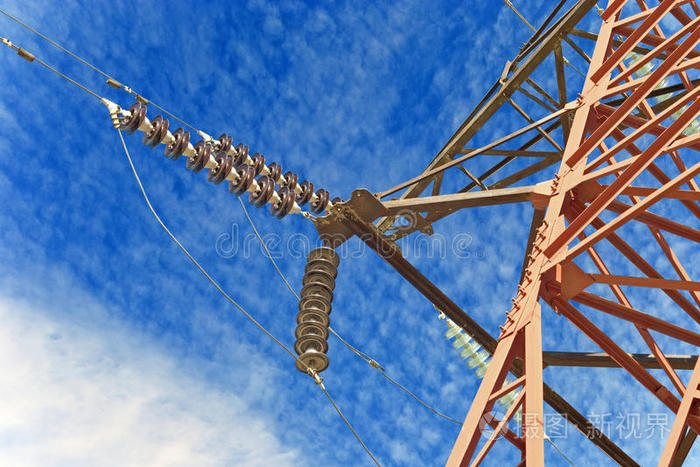insulator: (122, 99, 296, 219), (216, 133, 334, 209), (444, 327, 528, 427), (626, 50, 700, 138), (293, 246, 339, 379)
